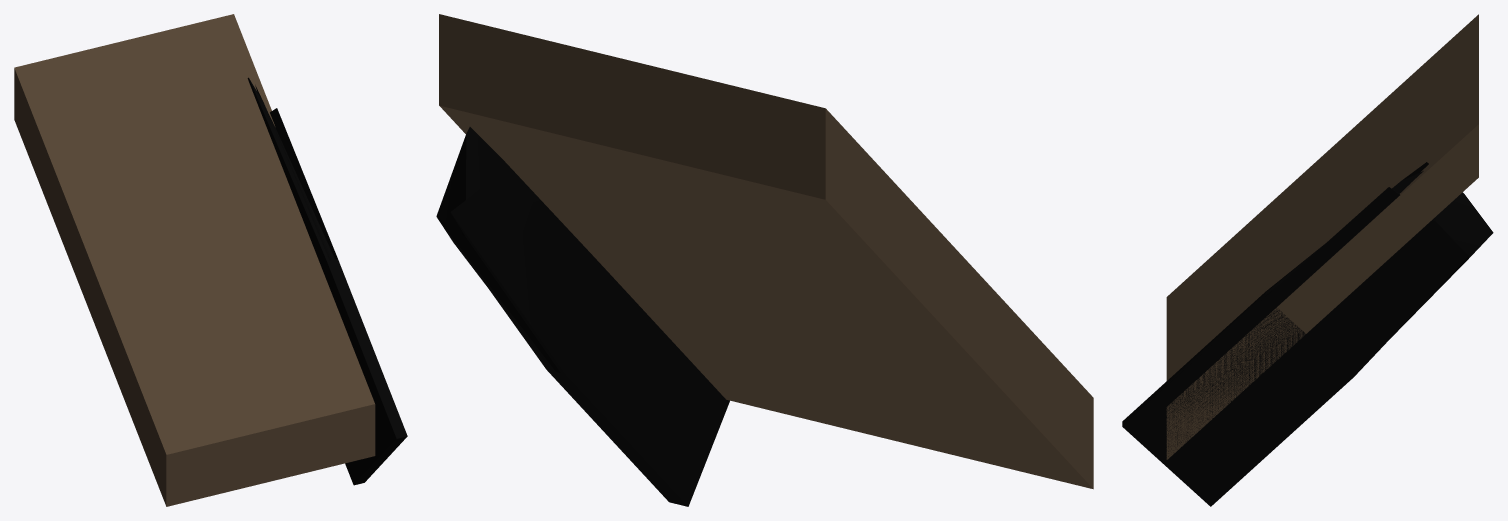
File: dach_ortgang_1m_r_kaputt.glb
3 views of the same model, side by side, from view 1: azimuth 30°, elevation 25°; view 2: azimuth 150°, elevation 25°; view 3: azimuth 270°, elevation 25° (orthographic). The views are drawn at different scales.
Visible parts, largest first — view 1: dach_ortgang_1m_r_kaputt; view 2: dach_ortgang_1m_r_kaputt; view 3: dach_ortgang_1m_r_kaputt.
Part boxes in pixels (<box>): dach_ortgang_1m_r_kaputt: <box>14,14,407,506</box>; dach_ortgang_1m_r_kaputt: <box>436,14,1093,506</box>; dach_ortgang_1m_r_kaputt: <box>1122,14,1493,506</box>.
Bounding box in the file's own units: 0.5 × 0.8114 × 0.7128.
